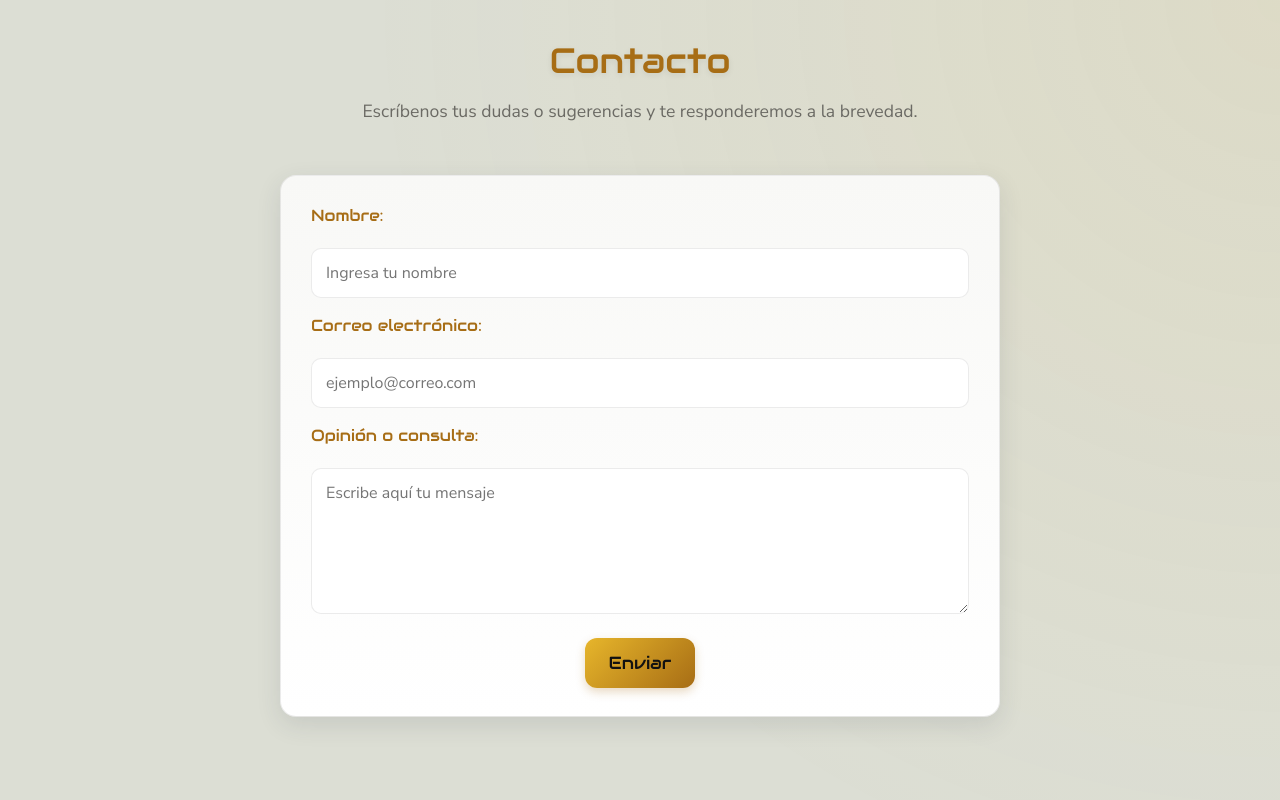
Scenario: Contact Page › Muestra mensaje de exito al enviar el formulario con datos validos
Step 1. Type "Juan Perez" into the field labelled "Nombre:" → (640, 273), box x1=311 y1=248 x2=969 y2=298
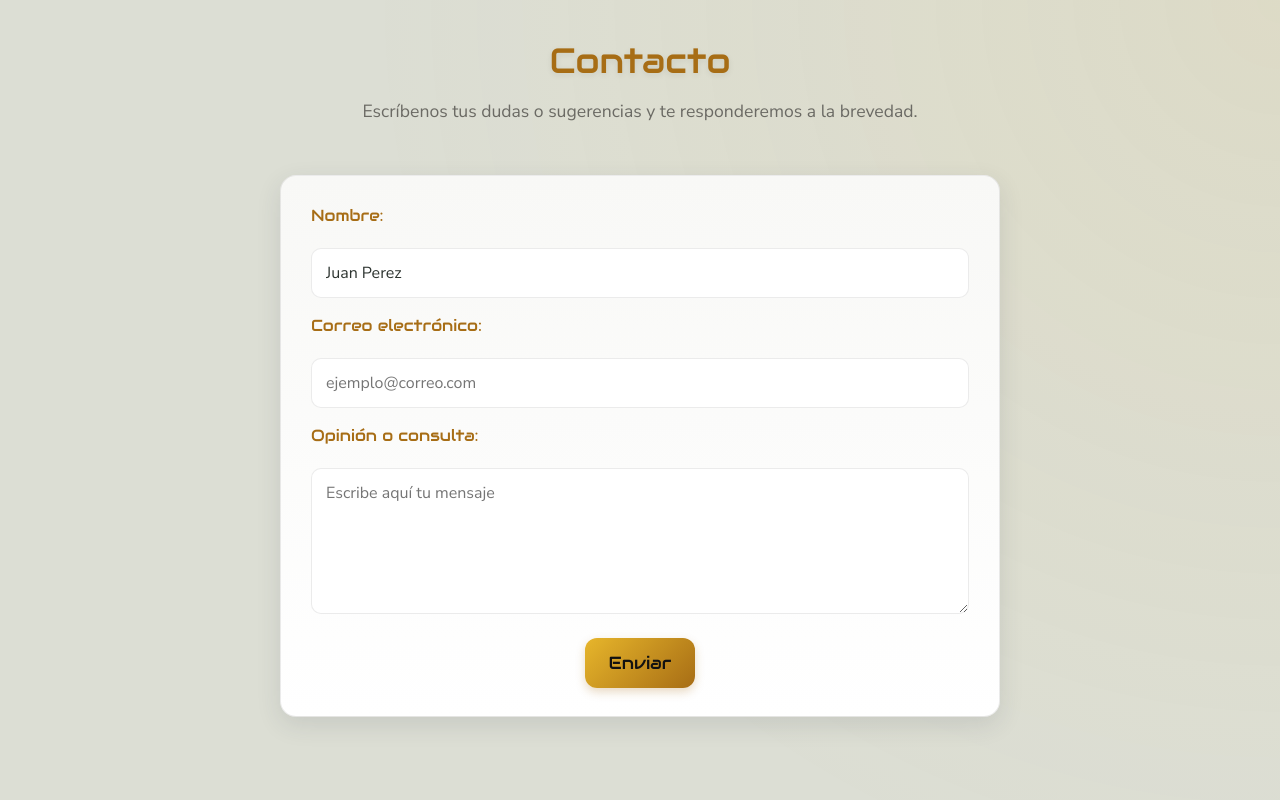
Step 2. Type "juan@gmail.com" into the field labelled "Correo electrónico:" → (640, 383), box x1=311 y1=358 x2=969 y2=408
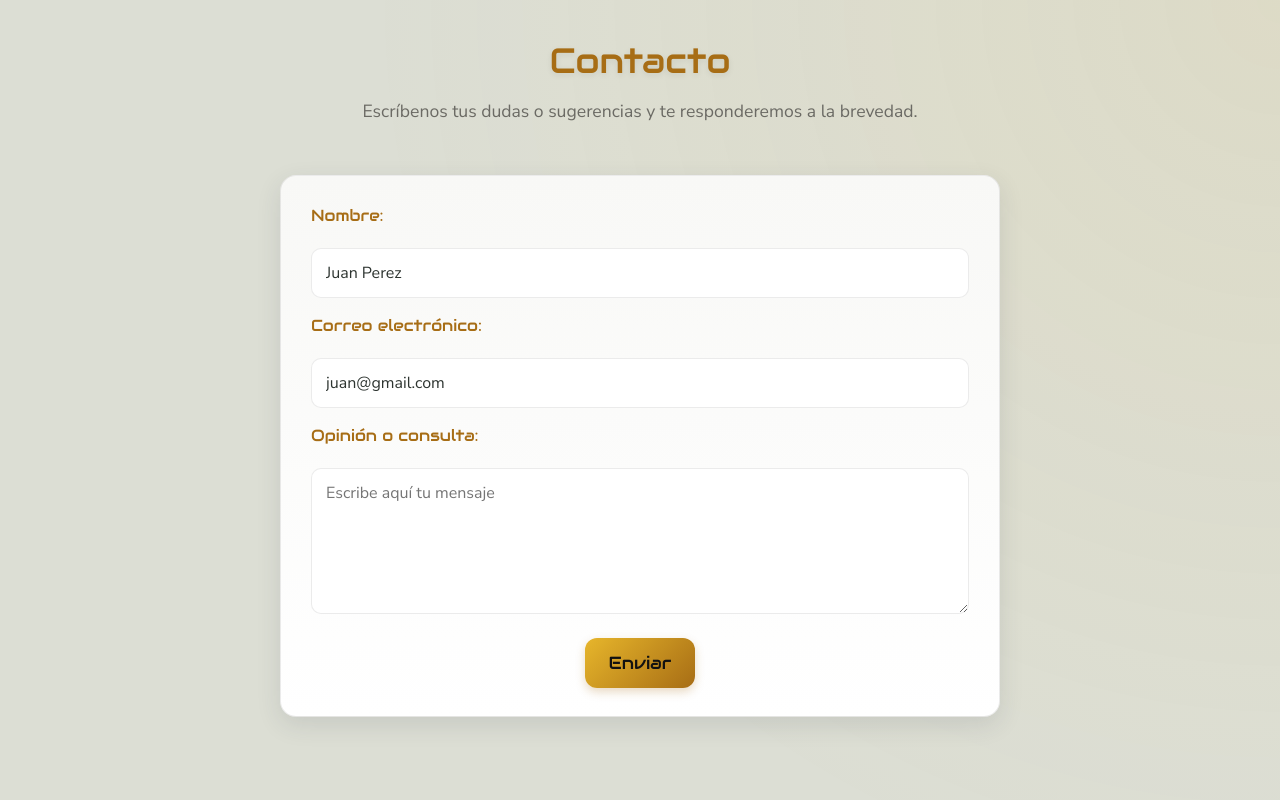
Step 3. Type "Me gusta su sitio web!" into the text box labelled "Opinión o consulta:" → (640, 541), box x1=311 y1=468 x2=969 y2=614
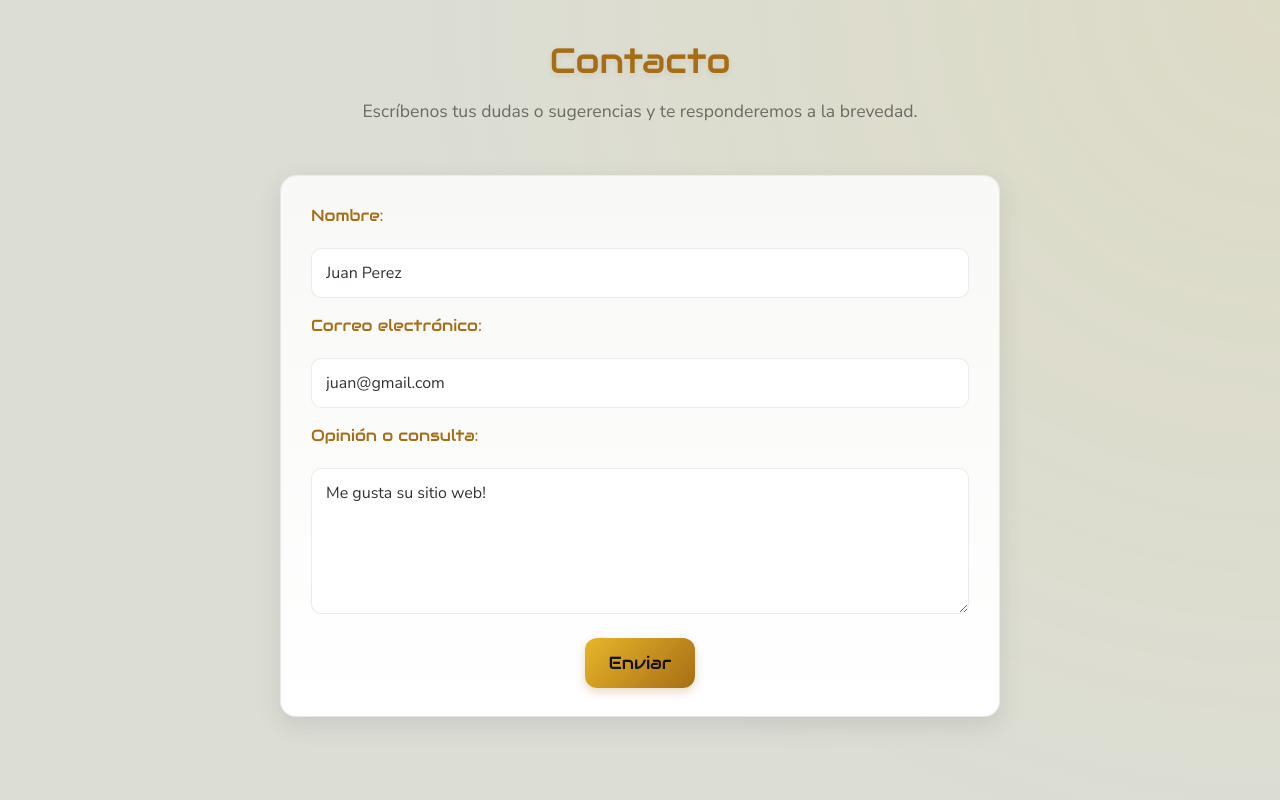
Step 4. Click the button "Enviar" → (640, 663), box x1=585 y1=638 x2=696 y2=688
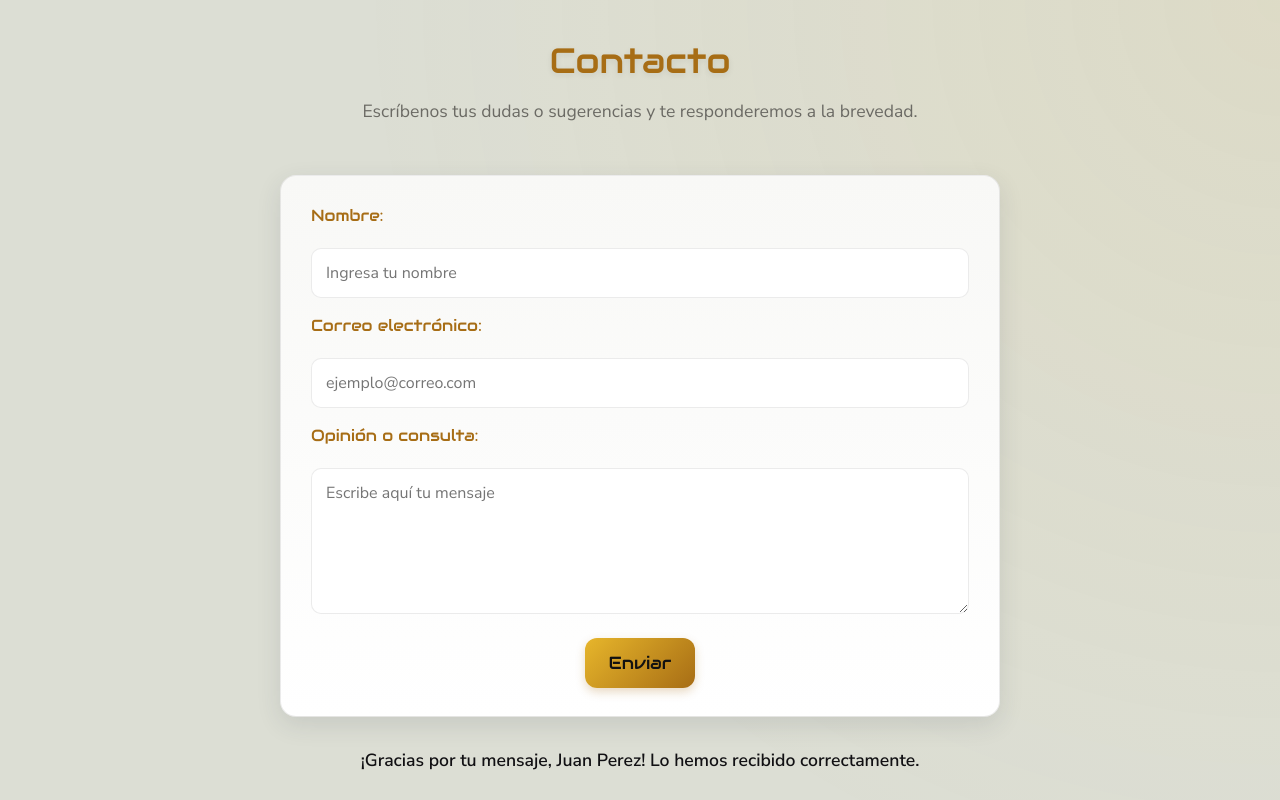
expect the text "¡Gracias por tu mensaje, Juan Perez! Lo hemos recibido correctamente." is shown: met, box x1=361 y1=747 x2=919 y2=773
